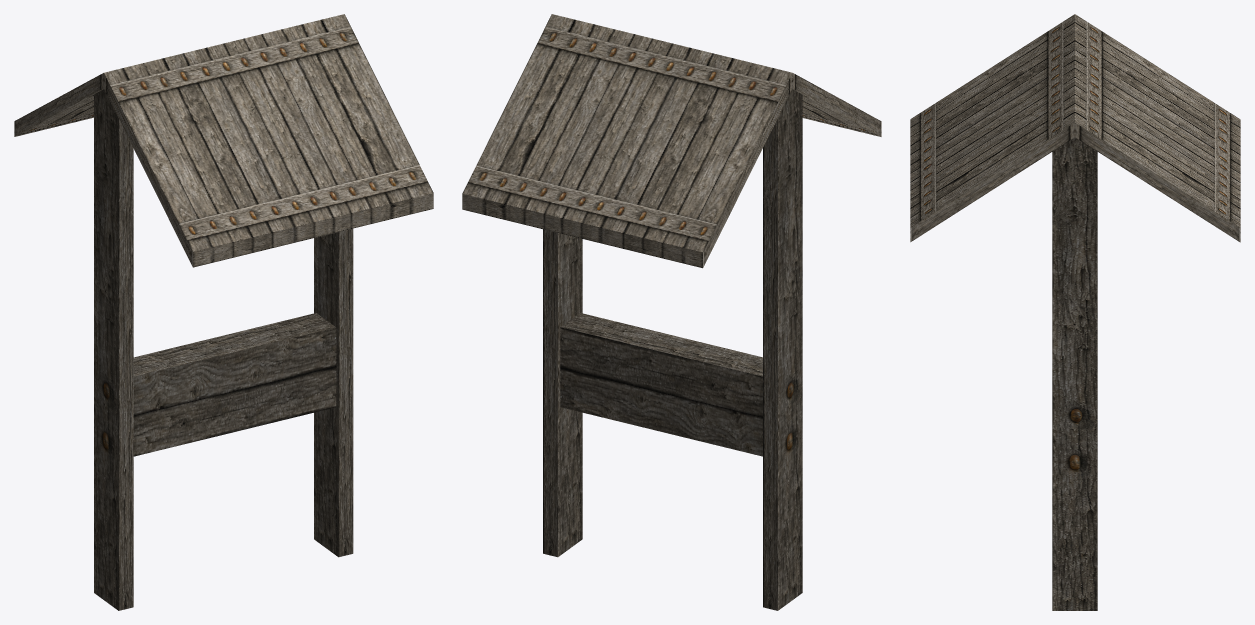
Rendered from mm9_deco_hitchingpost.glb.
3 renders of one model, left to right at view 1: azimuth 30°, elevation 25°; view 2: azimuth 150°, elevation 25°; view 3: azimuth 270°, elevation 25°, orthographic. The views are drawn at different scales.
Visible parts, largest first — view 1: Hitchingpost; view 2: Hitchingpost; view 3: Hitchingpost.
Boxes of the visible parts, <box> form: Hitchingpost: <box>14,14,433,610</box>; Hitchingpost: <box>462,14,881,610</box>; Hitchingpost: <box>910,14,1240,610</box>.
Size of the model in its own units: 1.48 by 3.1 by 1.9.
Materials: 1 (1 with a texture image).
